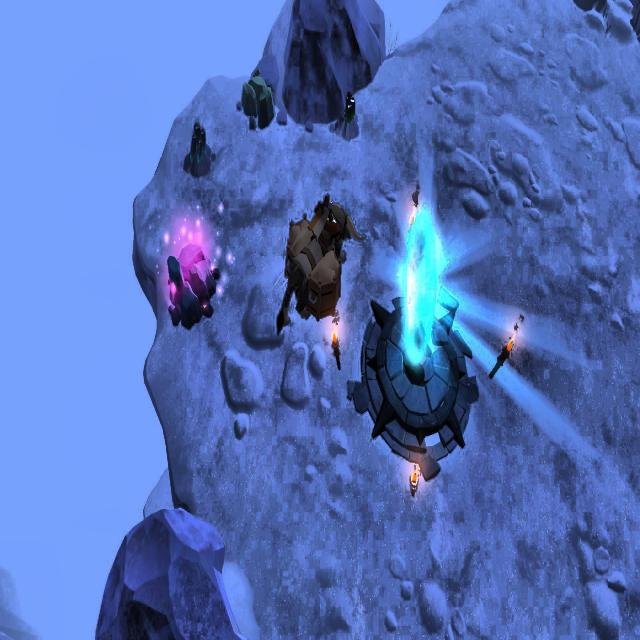ore_t3: (344, 87, 357, 120)
ore_t4: (187, 120, 207, 164)
rock_t3: (235, 58, 277, 136)
rock_t4: (166, 242, 220, 330)
